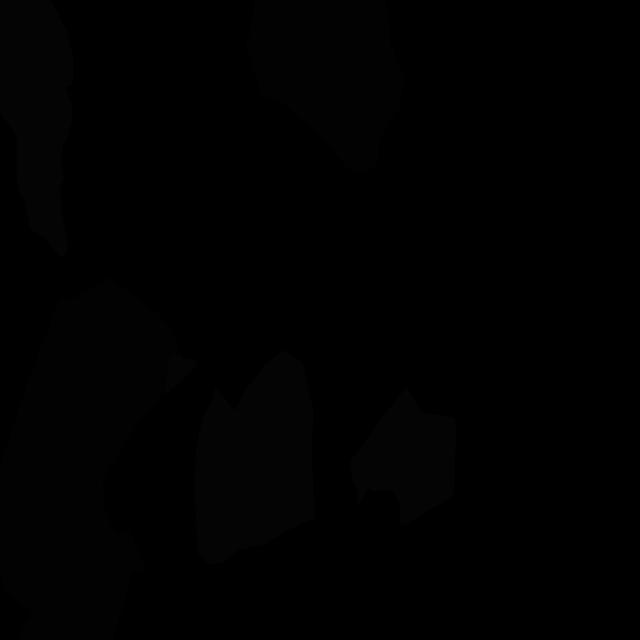cardboard: (0, 276, 180, 640), (246, 0, 406, 176)
soft_plastic: (194, 350, 314, 563), (350, 387, 457, 525), (164, 353, 197, 393)
